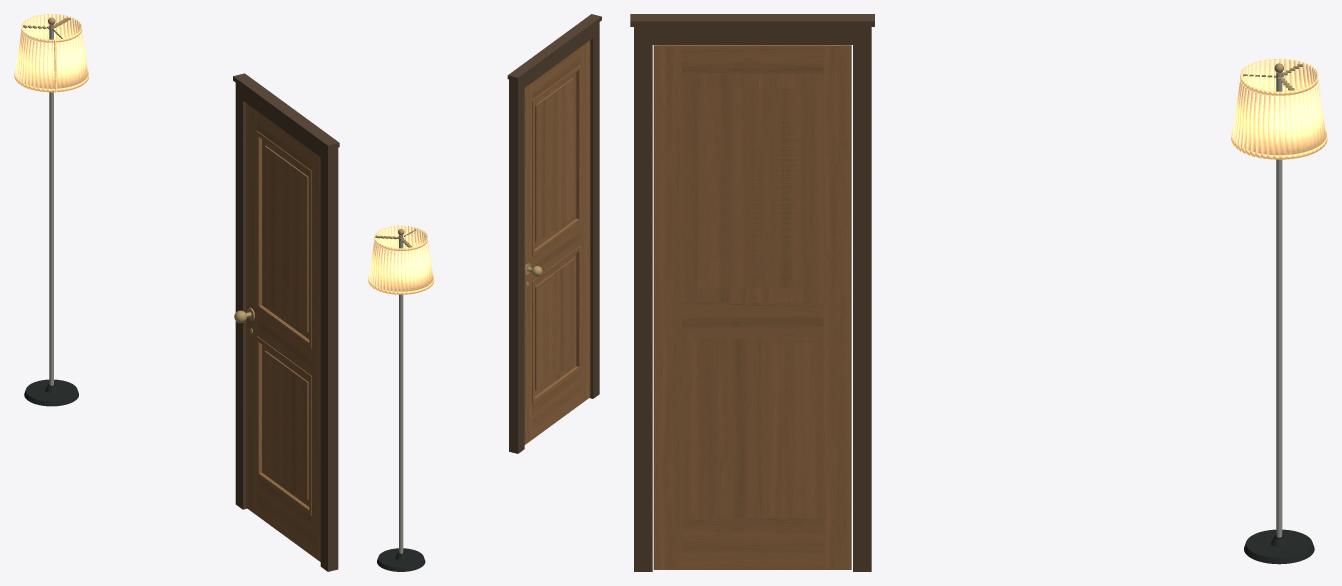
The model's file is pilot-right-limit-v02.glb.
3 renders of one model, left to right at view 1: azimuth 30°, elevation 25°; view 2: azimuth 150°, elevation 25°; view 3: azimuth 270°, elevation 25°, orthographic. The views are drawn at different scales.
Parts seen in each view (by area): view 1: pilot_door_leaf, pilot_door_architrave, pilot_lamp_shade, pilot_lamp_pole, pilot_lamp_base, pilot_lamp_shade_trim; view 2: pilot_door_leaf, pilot_door_architrave, pilot_lamp_shade, pilot_lamp_pole, pilot_lamp_base, pilot_lamp_shade_trim; view 3: pilot_door_leaf, pilot_door_architrave, pilot_lamp_shade, pilot_lamp_pole, pilot_lamp_base, pilot_lamp_shade_trim.
Part boxes in pixels (x1,y1,x2,y2): pilot_door_leaf: [246, 103, 320, 561]; pilot_door_architrave: [233, 73, 339, 571]; pilot_lamp_shade: [15, 14, 88, 88]; pilot_lamp_pole: [49, 24, 53, 385]; pilot_lamp_base: [24, 379, 78, 406]; pilot_lamp_shade_trim: [14, 14, 88, 92]; pilot_door_leaf: [524, 40, 590, 444]; pilot_door_architrave: [507, 14, 601, 453]; pilot_lamp_shade: [369, 226, 433, 291]; pilot_lamp_pole: [399, 235, 403, 553]; pilot_lamp_base: [377, 548, 425, 571]; pilot_lamp_shade_trim: [368, 225, 434, 294]; pilot_door_leaf: [653, 45, 851, 569]; pilot_door_architrave: [630, 14, 874, 571]; pilot_lamp_shade: [1232, 59, 1326, 155]; pilot_lamp_pole: [1276, 72, 1282, 537]; pilot_lamp_base: [1244, 529, 1314, 564]; pilot_lamp_shade_trim: [1231, 59, 1327, 159].
Bounding box in the file's own units: 0.3605 × 2.15 × 2.46.
8 materials, 2 textured.
